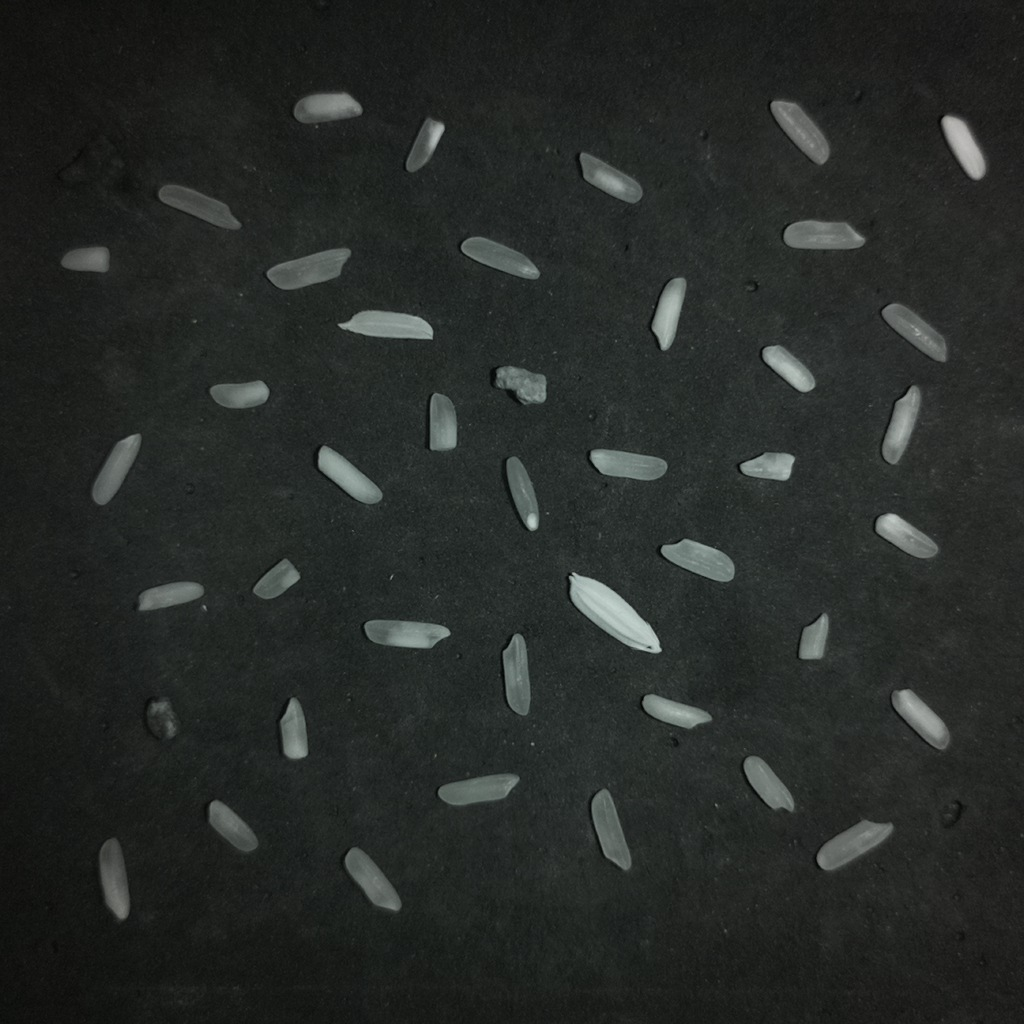broken: (743, 756, 794, 811), (207, 800, 257, 852), (405, 117, 444, 172), (253, 558, 300, 599), (798, 613, 828, 659)
chalky: (317, 445, 381, 503), (891, 689, 949, 749), (91, 434, 140, 505), (579, 152, 642, 203), (882, 385, 922, 465), (940, 115, 986, 180), (875, 513, 937, 558), (98, 838, 129, 920), (761, 345, 815, 392), (651, 278, 686, 350), (363, 620, 450, 648), (589, 449, 667, 480), (642, 694, 711, 728), (293, 92, 361, 123), (137, 581, 204, 611), (279, 697, 307, 759), (209, 380, 269, 408), (428, 393, 456, 450), (739, 452, 794, 480), (61, 246, 108, 271)
foreign: (569, 573, 661, 652), (338, 310, 432, 339), (494, 365, 546, 404), (145, 698, 179, 739)
whole: (881, 303, 947, 361), (816, 820, 892, 870), (770, 100, 829, 164), (157, 184, 240, 229), (344, 847, 401, 911), (266, 248, 350, 289), (460, 236, 539, 279), (591, 789, 631, 870), (660, 539, 734, 582), (437, 773, 519, 805), (506, 456, 538, 530), (783, 220, 864, 249), (503, 633, 530, 715)
